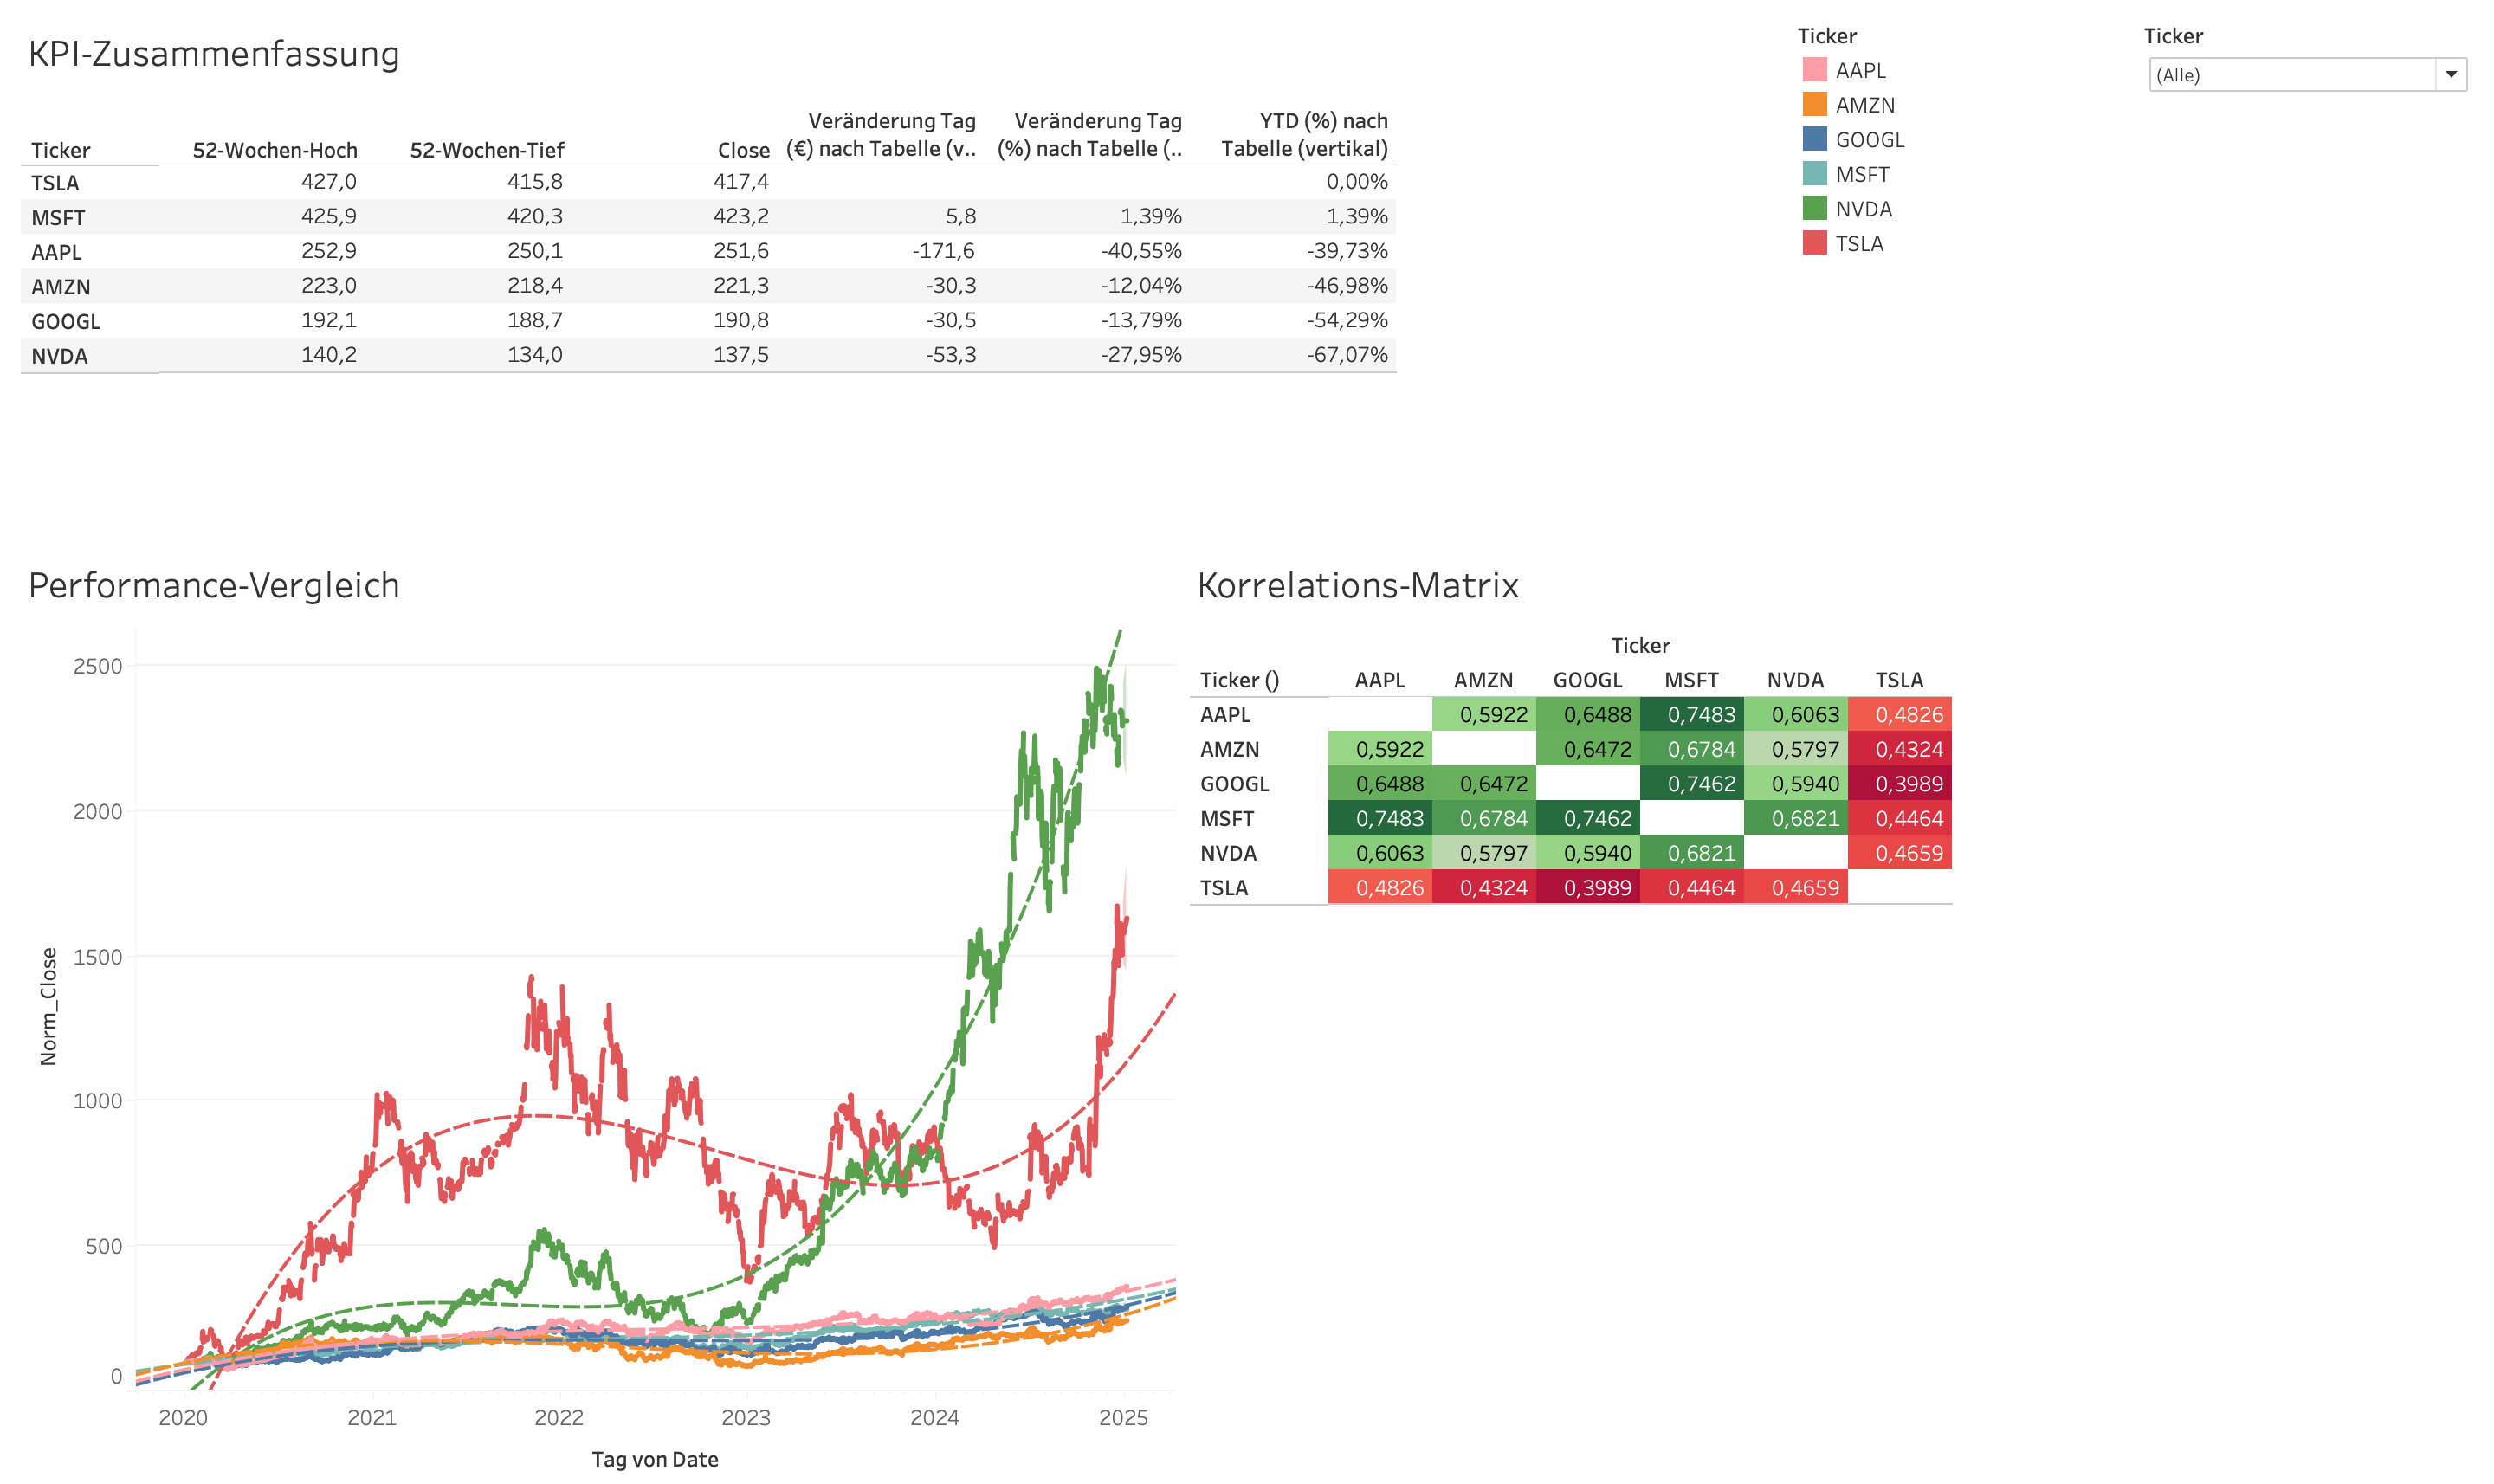

The dashboard page shown, as its layout file describes it:
{"tool":"tableau","page":{"name":"Mein täglicher Marktüberblick","canvas":[1000,1000],"units":"permille","ordinal":1},"visuals":[{"type":"worksheet","title":"KPI-Zusammenfassung","mark":"Text","rows":["Ticker"],"box":[6.8,12,710.9,350.8]},{"type":"legend","title":"Performance-Vergleich","param":"[federated.1hbp3yi18bfovh10qxs7f0fd0b0x].[none:Ticker:nk]","box":[717.7,12,138.6,350.8]},{"type":"filter","title":"KPI-Zusammenfassung","param":"[federated.07tinhi047pq2017v01hp16gpq5z].[none:Ticker:nk]","box":[856.3,12,136.9,350.8]},{"type":"worksheet","title":"Performance-Vergleich","mark":"Automatic","rows":["Norm_Close"],"cols":["Date"],"box":[6.8,362.8,534.7,625.2]},{"type":"worksheet","title":"Korrelations-Matrix","mark":"Square","rows":["Ticker (aktien_dashboard_enhanced.csv1)"],"cols":["Ticker"],"box":[541.5,362.8,451.7,625.2]}]}

Visuals, with their boxes on the dashboard's canvas, which has no fixed pixel size, in thousandths of its width and height (x1, y1, x2, y2). These are canvas units, not pixel positions in the 2494x1484 screenshot, which may show the page scaled, cropped or inside an application window:
"KPI-Zusammenfassung" worksheet (Text marks): 7 12 718 363
"Performance-Vergleich" legend: 718 12 856 363
"KPI-Zusammenfassung" filter: 856 12 993 363
"Performance-Vergleich" worksheet: 7 363 542 988
"Korrelations-Matrix" worksheet (Square marks): 542 363 993 988
